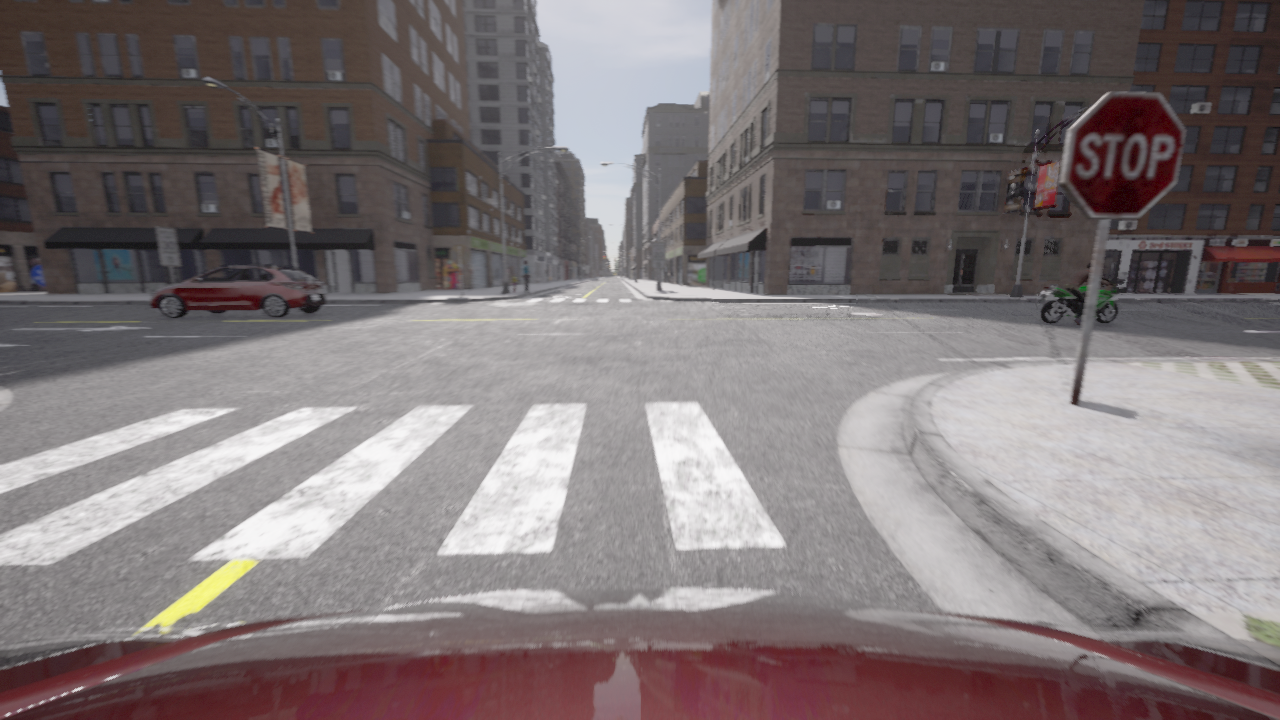cyclist: (0, 588, 1279, 719), (149, 265, 327, 318), (1039, 277, 1124, 323)
pedestrian: (521, 260, 530, 291), (512, 273, 517, 292)
